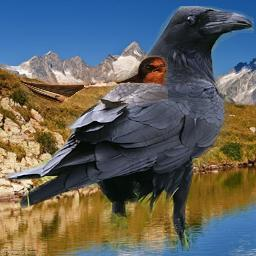Crow: (2, 6, 254, 251)
Swallow: (20, 55, 168, 108)
